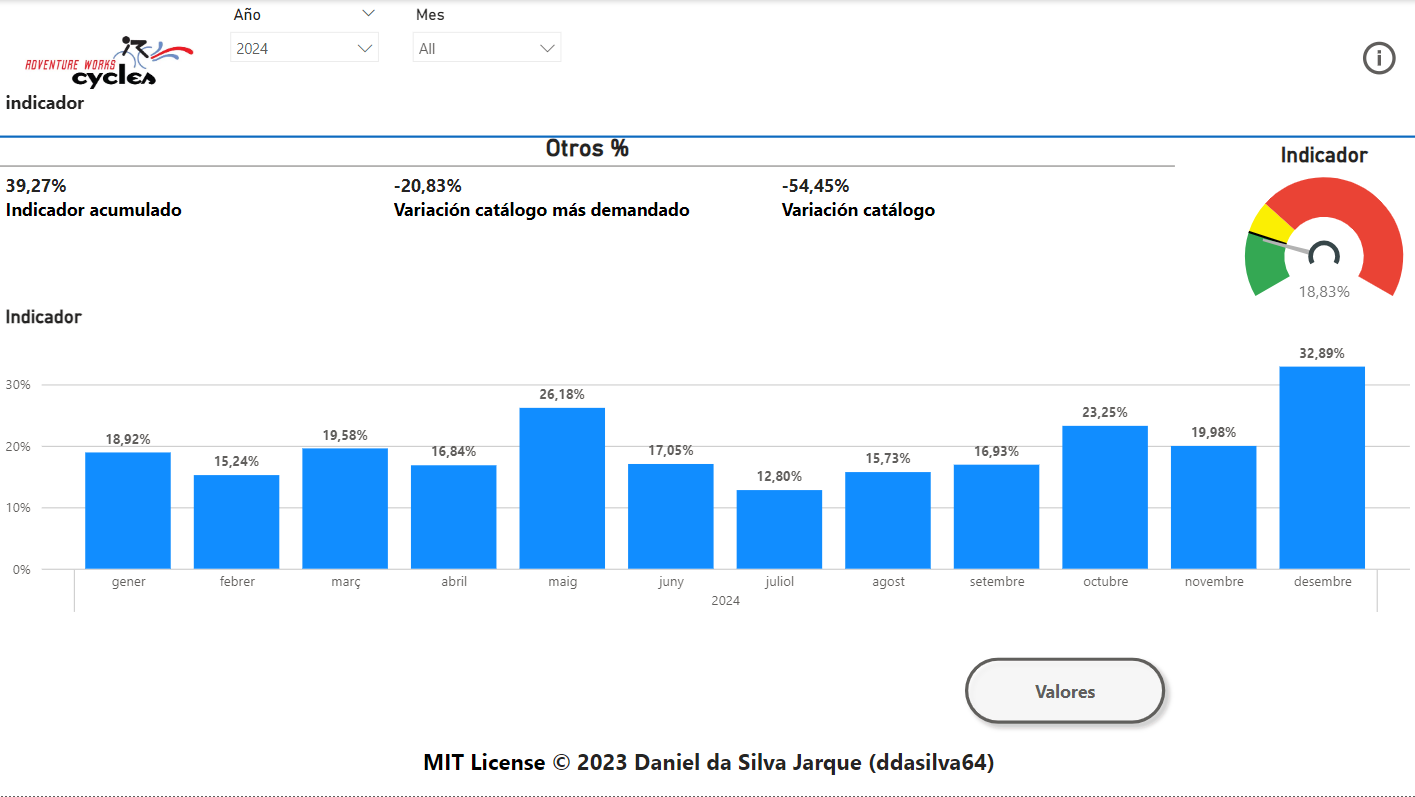

What the dashboard file says about the page in this screenshot:
{"tool":"powerbi","page":{"name":"Porcentajes","canvas":[1280,720],"ordinal":0},"visuals":[{"type":"image","title":"imgLogo","box":[0,0,198,119],"z":0,"group":"g5"},{"type":"shape","title":"shpLinia","box":[0,118,1280,12],"z":0,"group":"g7"},{"type":"eaTachometer6616D82ED23A4C048E1D3CD4604742ED","title":"Indicador","fields":{"EndValue":["Metrics.LTV Max"],"Range2StartValue":["Metrics.LTV rang 1"],"Range3StartValue":["Metrics.LTV rang 2"],"Range4StartValue":["Metrics.LTV rang 3"],"TargetValue":["Metrics.LTV target"],"Y":["Metrics.Media Indicador"]},"box":[1114.1,129,166,161.6],"z":0,"group":"g8"},{"type":"group","id":"g1","title":"Bottons","box":[216,585.6,847.2,78.1],"z":0,"group":"g4"},{"type":"group","id":"g2","title":"Foot","box":[0,666,1280,52.9],"z":0},{"type":"textbox","title":"txtLlicesncia","box":[0,666,1280,52.9],"z":0,"group":"g2"},{"type":"group","id":"g3","title":"Filtros","box":[362.5,0,154.5,65.1],"z":1000,"group":"g7"},{"type":"group","id":"g4","title":"Body","box":[0,121,1280.1,542.7],"z":1000},{"type":"multiRowCard","title":"Otros %","fields":{"Values":["Metrics.Media indicadox","Metrics.Variación catálogo más demandado","Metrics.Variación catálogo"]},"box":[0,121,1062.5,97],"z":1000,"group":"g8"},{"type":"actionButton","title":"btnGoToValores","box":[864,585.7,199.2,78],"z":1000,"group":"g1"},{"type":"group","id":"g5","title":"Identificacion","box":[0,0,198,119],"z":2000,"group":"g7"},{"type":"group","id":"g6","title":"Filtros","box":[197.5,0,154.5,65.1],"z":2000},{"type":"slicer","fields":{"Values":["DimDates.Exercise"]},"box":[197.5,0,154.5,65.1],"z":2001,"group":"g6"},{"type":"slicer","fields":{"Values":["DimDates.ShortMonth"]},"box":[362.5,0,154.5,65.1],"z":2001,"group":"g3"},{"type":"group","id":"g7","title":"Head","box":[0,0,1280.5,130.1],"z":3000},{"type":"textbox","title":"txtIndicador","box":[0,75.6,197.9,32],"z":3000,"group":"g5"},{"type":"actionButton","box":[1227,32.5,41.8,39.5],"z":4000},{"type":"group","id":"g8","title":"Fix","box":[0,121,1280.1,169.6],"z":7000,"group":"g4"},{"type":"clusteredColumnChart","title":"Indicador","fields":{"Y":["Sum(CSV_HechosAgregado.Indicador)"],"Category":["CSV_HechosAgregado.fecha.Variation.Jerarquia de dates.Any","CSV_HechosAgregado.fecha.Variation.Jerarquia de dates.Mes"]},"box":[0,275.6,1280,289.7],"z":8000,"group":"g4"}]}

Visuals, with their boxes in screenshot pixels (x1, y1, x2, y2), scaled from the page's 1280x720 canvas onto the 1415x797 screenshot:
"imgLogo" image: 0:0:219:132
"shpLinia" shape: 0:131:1414:144
"Indicador" eaTachometer6616D82ED23A4C048E1D3CD4604742ED: 1232:143:1414:322
"Bottons" group: 239:648:1175:735
"Foot" group: 0:737:1414:796
"txtLlicesncia" textbox: 0:737:1414:796
"Filtros" group: 401:0:572:72
"Body" group: 0:134:1414:735
"Otros %" multiRowCard: 0:134:1175:241
"btnGoToValores" actionButton: 955:648:1175:735
"Identificacion" group: 0:0:219:132
"Filtros" group: 218:0:389:72
slicer - DimDates.Exercise: 218:0:389:72
slicer - DimDates.ShortMonth: 401:0:572:72
"Head" group: 0:0:1414:144
"txtIndicador" textbox: 0:84:219:119
actionButton: 1356:36:1403:80
"Fix" group: 0:134:1414:322
"Indicador" clusteredColumnChart: 0:305:1414:626
